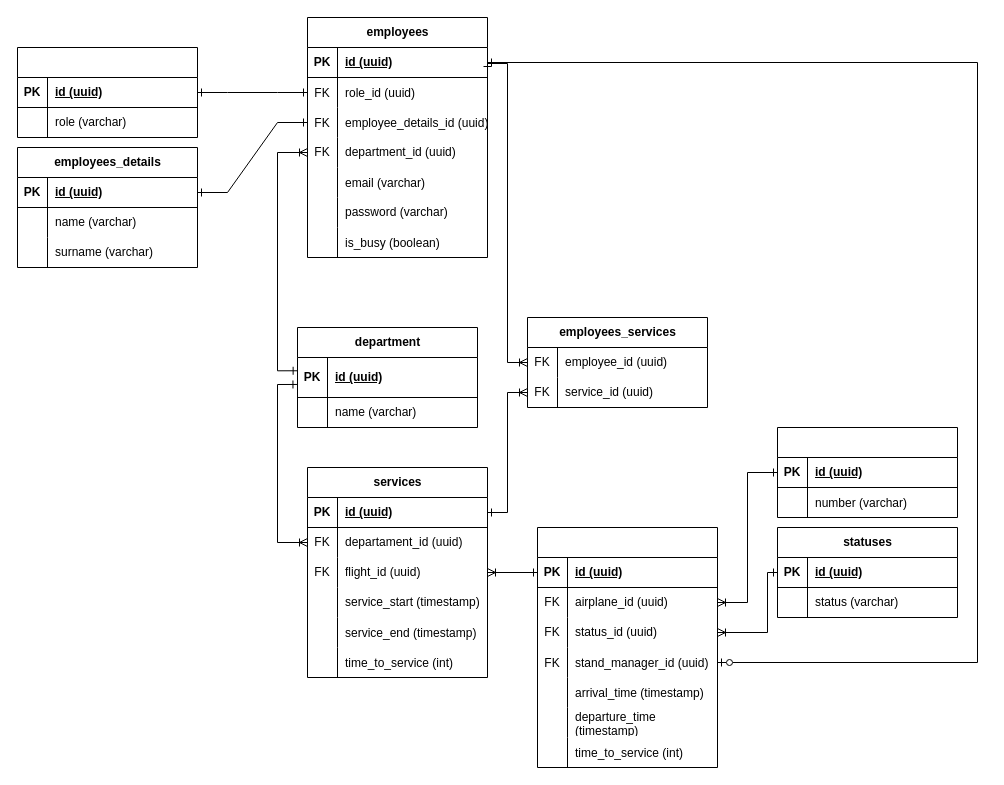
Some shapes in this 1004 by 785 pixel diagram are drawn without their labels. The box of each missing label's shape, as (x1, y1, x2, y2) in pixels:
airplanes: (776, 426, 958, 518)
flights: (536, 526, 718, 768)
roles: (16, 46, 198, 138)
